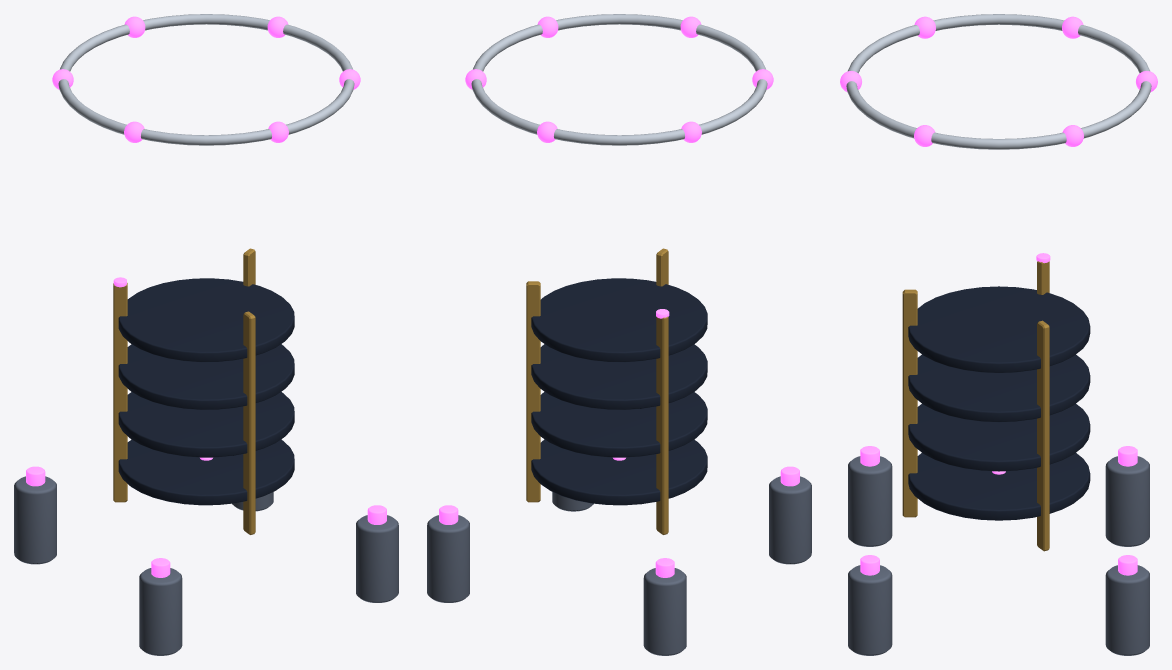
Rendered from tower_arc_damage_s5.glb.
3 views of the same model, side by side, from view 1: azimuth 30°, elevation 25°; view 2: azimuth 150°, elevation 25°; view 3: azimuth 270°, elevation 25° (orthographic). The views are drawn at different scales.
Parts seen in each view (by area): view 1: arc_insulator_sleeve3, arc_insulator_sleeve1, arc_insulator_sleeve2, arc_insulator_sleeve0, arc_electrode_ring, arc_shock_cap3, arc_shock_cap0, arc_shock_cap2, arc_ground_strap2, arc_ground_strap0; view 2: arc_insulator_sleeve3, arc_insulator_sleeve1, arc_insulator_sleeve2, arc_insulator_sleeve0, arc_electrode_ring, arc_shock_cap0, arc_shock_cap3, arc_shock_cap1, arc_ground_strap1, arc_ground_strap0; view 3: arc_insulator_sleeve3, arc_insulator_sleeve1, arc_insulator_sleeve2, arc_insulator_sleeve0, arc_electrode_ring, arc_shock_cap0, arc_shock_cap1, arc_shock_cap2, arc_shock_cap3, arc_ground_strap2, arc_ground_strap1.
Part boxes in pixels (x1,y1,x2,y2): arc_insulator_sleeve3: [118, 278, 294, 362]; arc_insulator_sleeve1: [118, 391, 294, 457]; arc_insulator_sleeve2: [118, 344, 294, 409]; arc_insulator_sleeve0: [118, 439, 294, 505]; arc_electrode_ring: [58, 14, 354, 145]; arc_shock_cap3: [139, 568, 182, 655]; arc_shock_cap0: [14, 476, 56, 564]; arc_shock_cap2: [356, 515, 398, 602]; arc_ground_strap2: [243, 311, 255, 534]; arc_ground_strap0: [113, 283, 127, 502]; arc_insulator_sleeve3: [531, 278, 707, 362]; arc_insulator_sleeve1: [531, 391, 707, 457]; arc_insulator_sleeve2: [531, 344, 707, 409]; arc_insulator_sleeve0: [531, 439, 707, 505]; arc_electrode_ring: [471, 14, 767, 145]; arc_shock_cap0: [643, 568, 686, 655]; arc_shock_cap3: [769, 476, 811, 564]; arc_shock_cap1: [427, 515, 469, 602]; arc_ground_strap1: [526, 281, 540, 502]; arc_ground_strap0: [656, 316, 668, 534]; arc_insulator_sleeve3: [908, 286, 1090, 373]; arc_insulator_sleeve1: [908, 404, 1090, 471]; arc_insulator_sleeve2: [908, 354, 1090, 422]; arc_insulator_sleeve0: [908, 453, 1090, 520]; arc_electrode_ring: [846, 14, 1151, 149]; arc_shock_cap0: [1105, 456, 1149, 546]; arc_shock_cap1: [1105, 565, 1149, 655]; arc_shock_cap2: [848, 565, 892, 655]; arc_shock_cap3: [848, 456, 892, 546]; arc_ground_strap2: [902, 289, 917, 517]; arc_ground_strap1: [1037, 320, 1049, 551].
Bounding box in the file's own units: 1.24 × 2.34 × 1.29.
